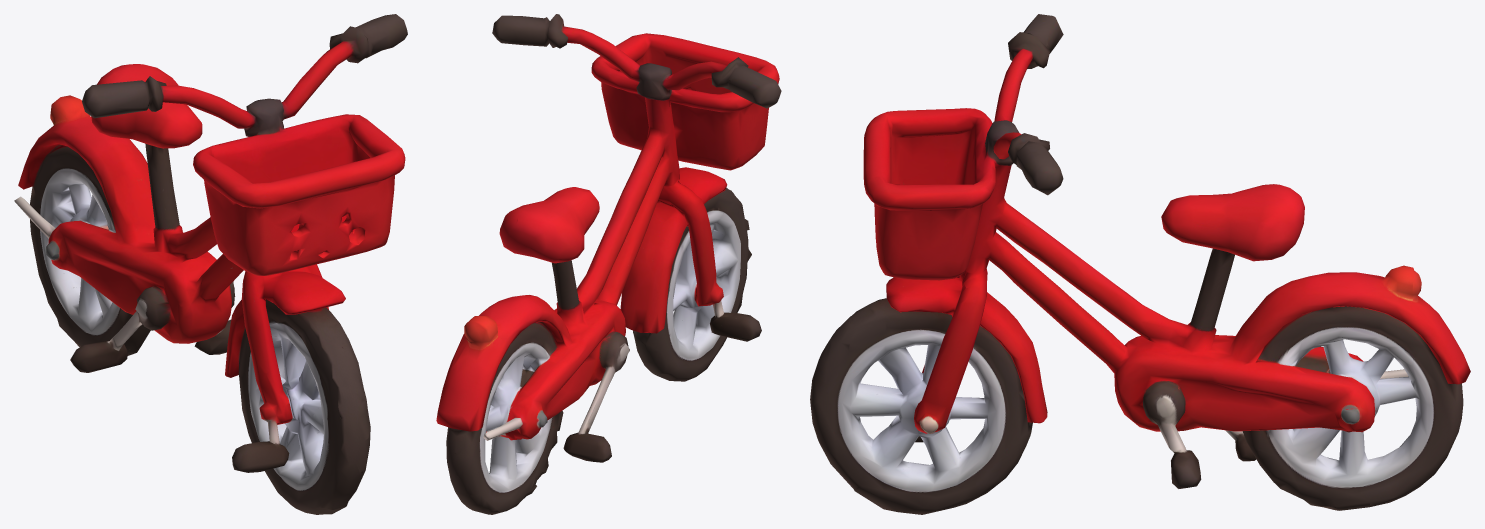
File: bike.glb
3 views of the same model, side by side, from view 1: azimuth 30°, elevation 25°; view 2: azimuth 150°, elevation 25°; view 3: azimuth 270°, elevation 25° (orthographic). The views are drawn at different scales.
Visible parts, largest first — view 1: tripo_node_f5e86b7e-6457-41ca-af7a-70ab4c9fd56e; view 2: tripo_node_f5e86b7e-6457-41ca-af7a-70ab4c9fd56e; view 3: tripo_node_f5e86b7e-6457-41ca-af7a-70ab4c9fd56e.
Part boxes in pixels (x1=…): tripo_node_f5e86b7e-6457-41ca-af7a-70ab4c9fd56e: x1=14, y1=14, x2=407, y2=514; tripo_node_f5e86b7e-6457-41ca-af7a-70ab4c9fd56e: x1=436, y1=14, x2=781, y2=514; tripo_node_f5e86b7e-6457-41ca-af7a-70ab4c9fd56e: x1=810, y1=14, x2=1470, y2=514.
Size of the model in its own units: 0.5712 by 0.7147 by 1.
Materials: 1 (1 with a texture image).
